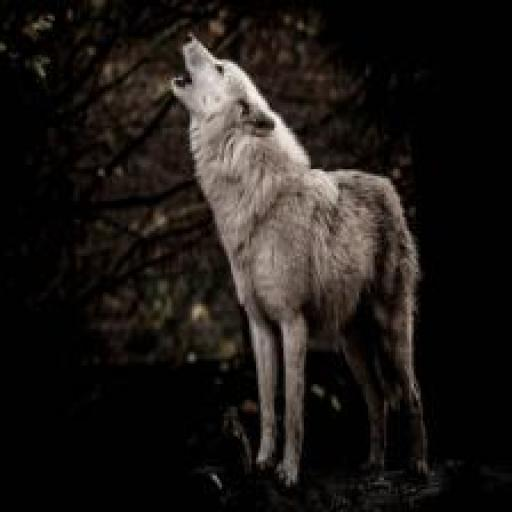wolf: (146, 32, 448, 512)
